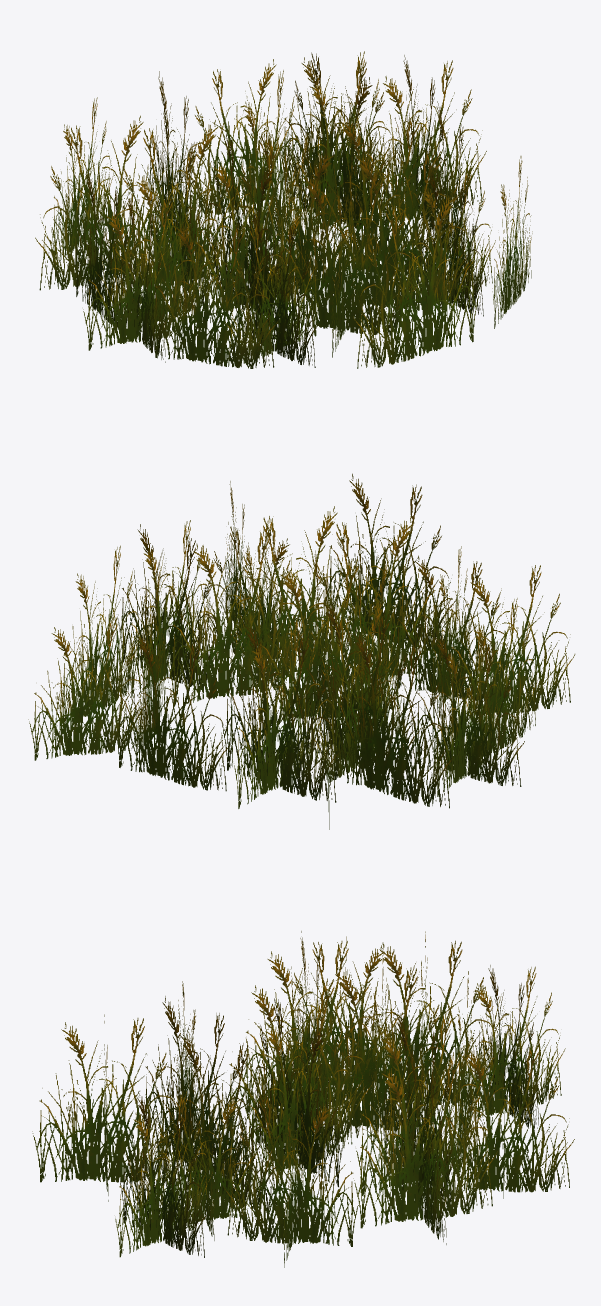
File: INST_TROLLHOLE_GRASSPLANTS-CLUMP.fbx
3 views of the same model, one above another, from view 1: azimuth 30°, elevation 25°; view 2: azimuth 150°, elevation 25°; view 3: azimuth 270°, elevation 25° (orthographic).
Parts seen in each view (by area): view 1: INST_TROLLHOLE_GRASSPLANTS-CLUMP; view 2: INST_TROLLHOLE_GRASSPLANTS-CLUMP; view 3: INST_TROLLHOLE_GRASSPLANTS-CLUMP.
Part boxes in pixels (x1,y1,x2,y2): INST_TROLLHOLE_GRASSPLANTS-CLUMP: (35,51,532,368); INST_TROLLHOLE_GRASSPLANTS-CLUMP: (28,473,575,829); INST_TROLLHOLE_GRASSPLANTS-CLUMP: (32,931,574,1267).
Size of the model in its own units: 27495 by 9760 by 27873.
Materials: 1 (1 with a texture image).
